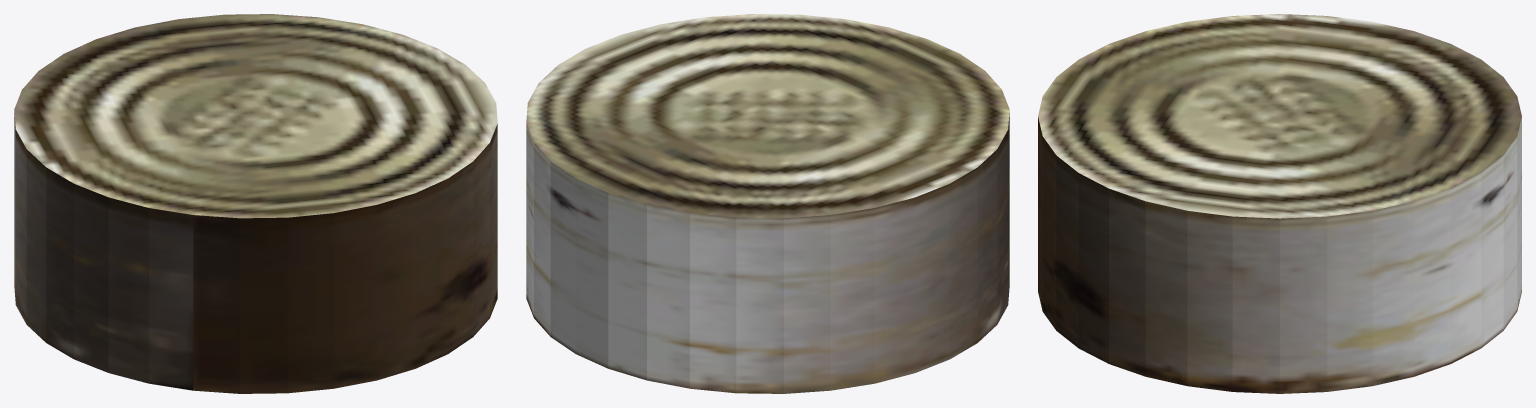
The model's file is canned.obj.
3 renders of one model, left to right at view 1: azimuth 30°, elevation 25°; view 2: azimuth 150°, elevation 25°; view 3: azimuth 270°, elevation 25°, orthographic.
Parts seen in each view (by area): view 1: Cylinder_Cylinder.002; view 2: Cylinder_Cylinder.002; view 3: Cylinder_Cylinder.002.
Part boxes in pixels (x1,y1,x2,y2): Cylinder_Cylinder.002: (14, 14, 497, 393); Cylinder_Cylinder.002: (526, 14, 1009, 393); Cylinder_Cylinder.002: (1038, 14, 1521, 393).
Size of the model in its own units: 2 by 0.8 by 2.
